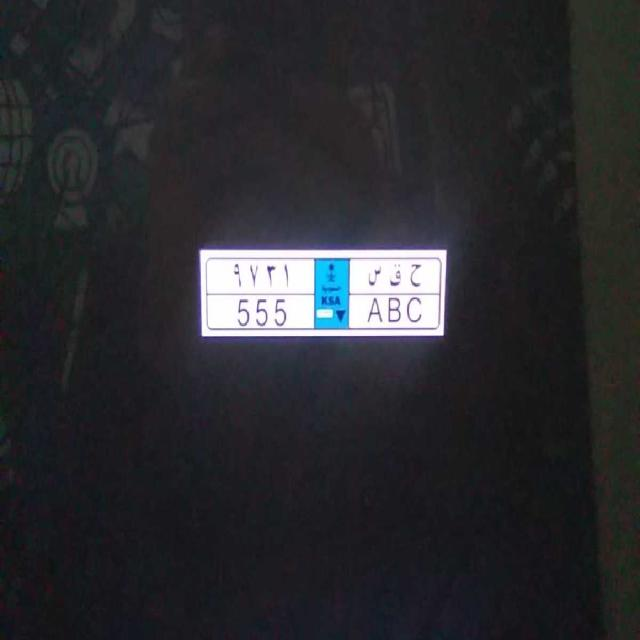license_plate: (219, 291, 433, 330)
